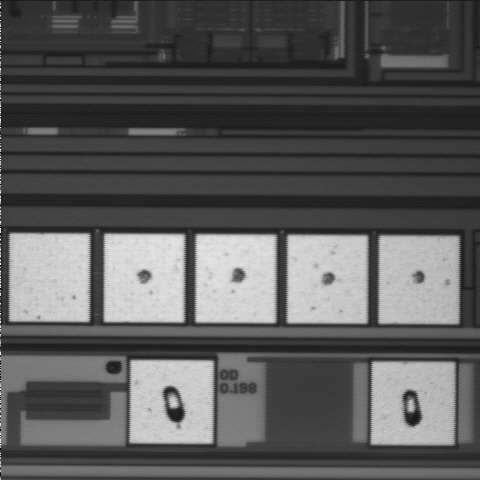pad: (196, 235, 276, 323), (105, 234, 184, 322), (10, 234, 89, 321), (288, 236, 367, 323), (130, 361, 213, 443), (380, 236, 458, 323), (372, 362, 454, 444)
